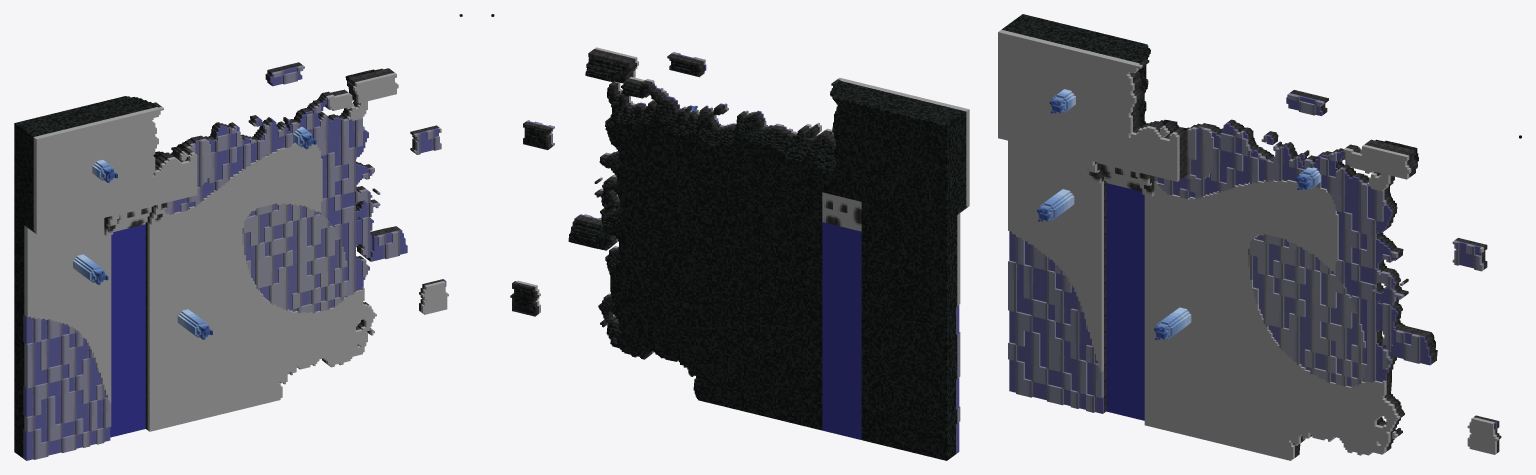
The picture shows the model from 3 angles, left to right: view 1: azimuth 30°, elevation 25°; view 2: azimuth 150°, elevation 25°; view 3: azimuth 330°, elevation 25°; orthographic projection. The views are drawn at different scales.
Bounding box in the file's own units: 25.6 × 18 × 3.6.
